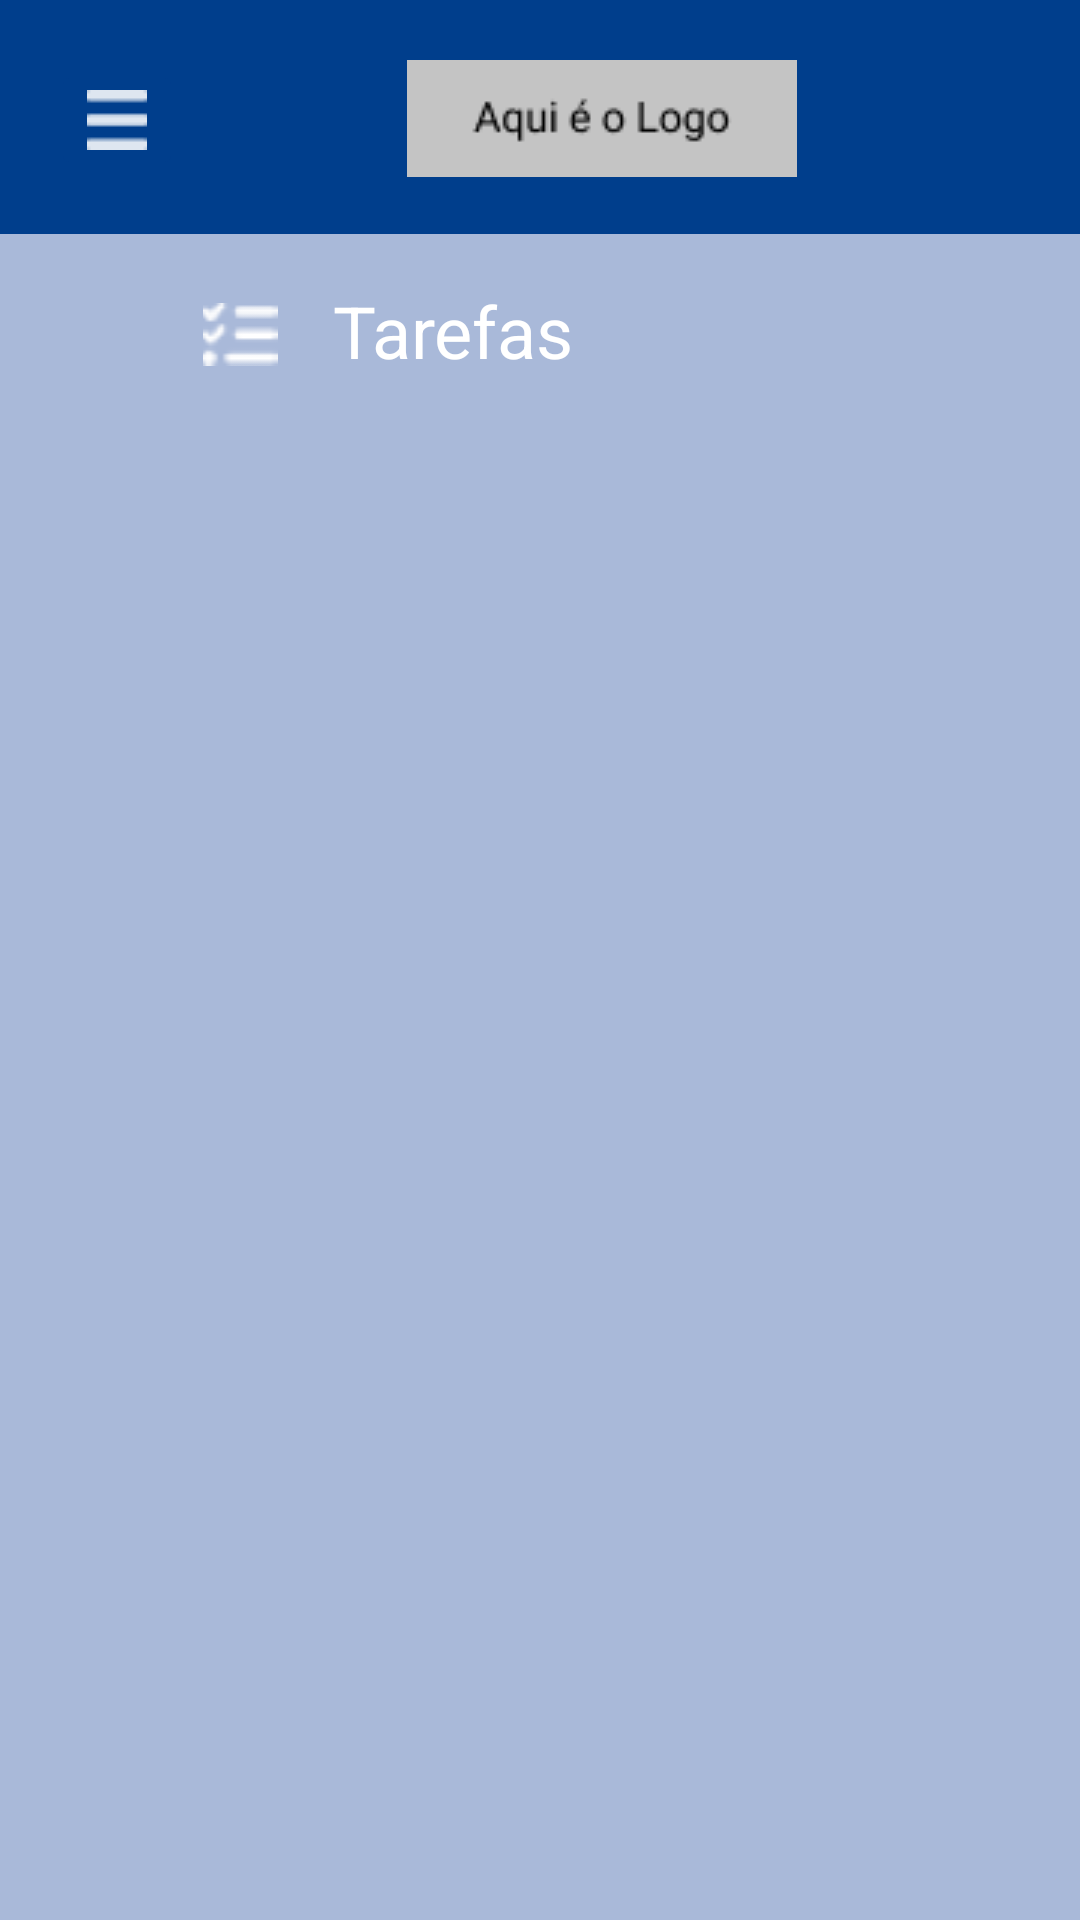

Where to tap for icons on this 1080 x 1920 app screen, as (x,y):
list: (240,334)
menu: (117,120)
